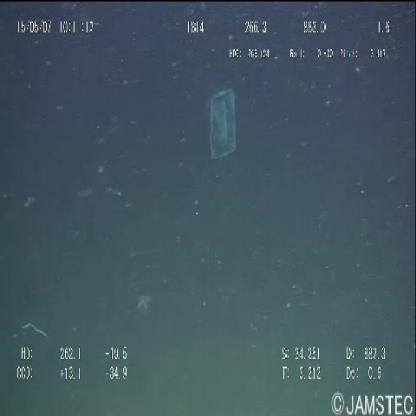Rác: (206, 88, 238, 164)
